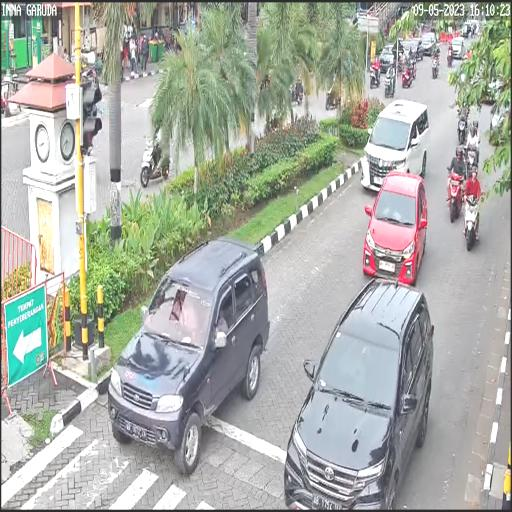mobil: (103, 237, 274, 475), (286, 276, 435, 512), (356, 170, 428, 286), (357, 93, 435, 200)
motor: (462, 186, 482, 254), (447, 166, 464, 226), (465, 141, 482, 177)
